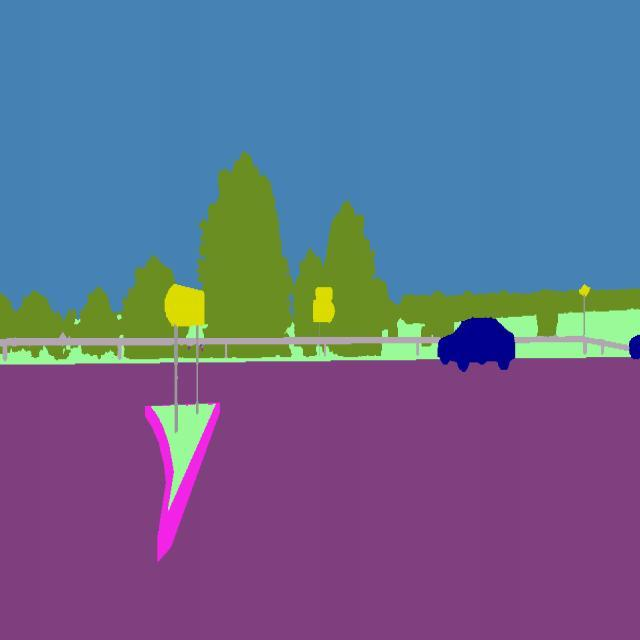safe: (439, 315, 518, 374), (629, 332, 640, 364)
